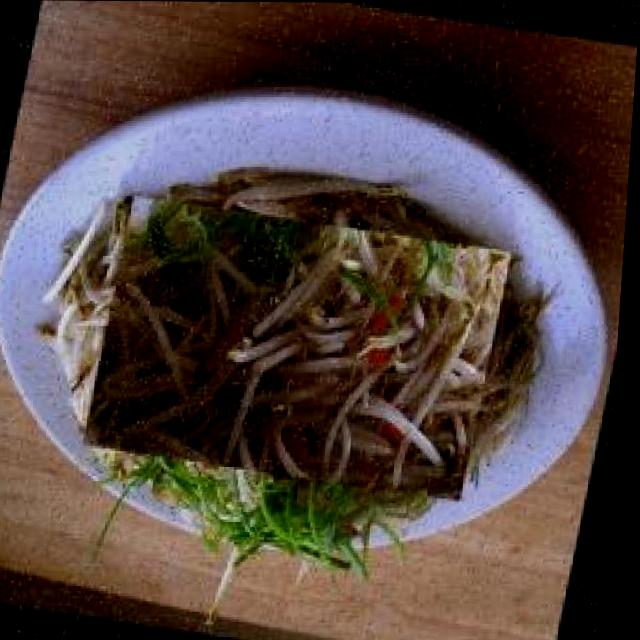mung_bean_sprouts: (86, 196, 520, 503)
